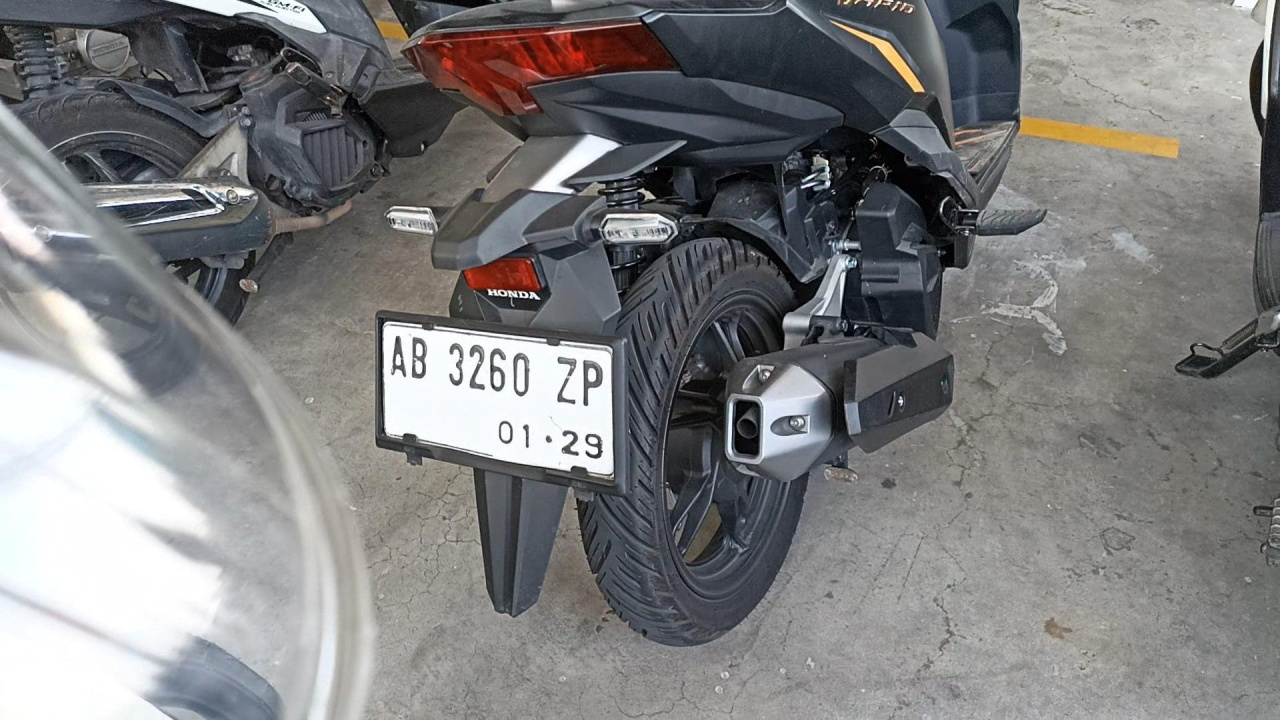plate: (381, 318, 621, 485)
